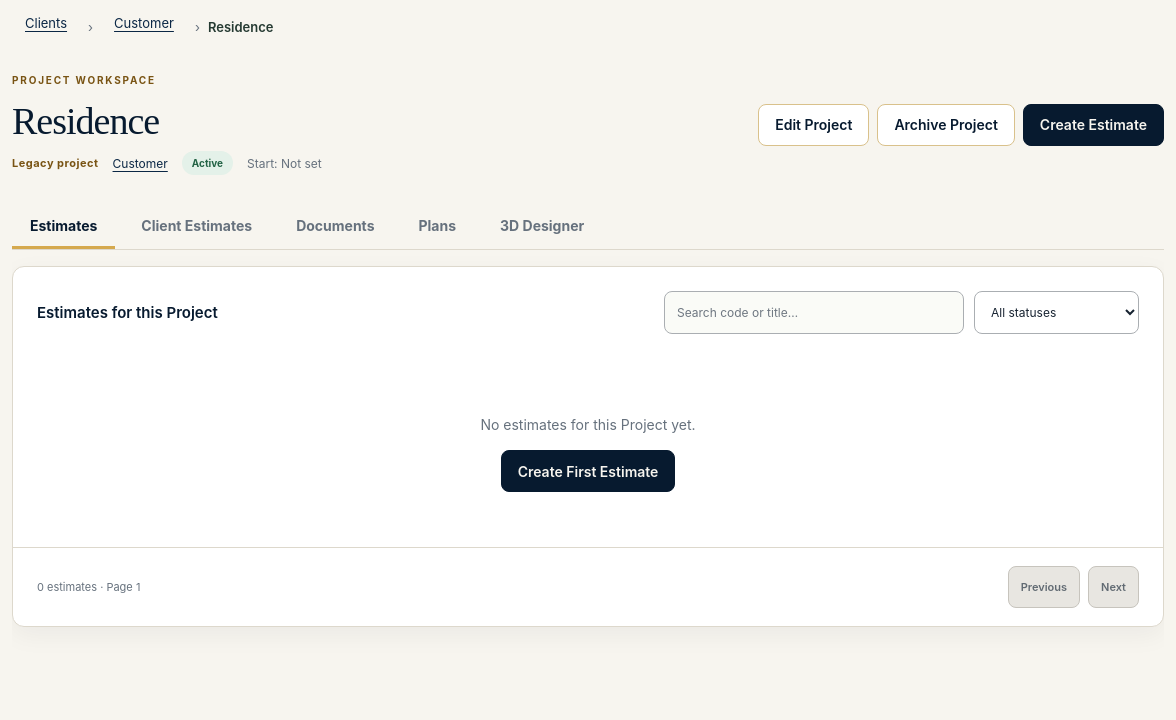
Scenario: opens the ADMIN Plans workspace from the existing Project detail
This screenshot has width=1176, height=720.
Click the tab "Plans".
click(437, 227)  # box [400, 205, 474, 249]
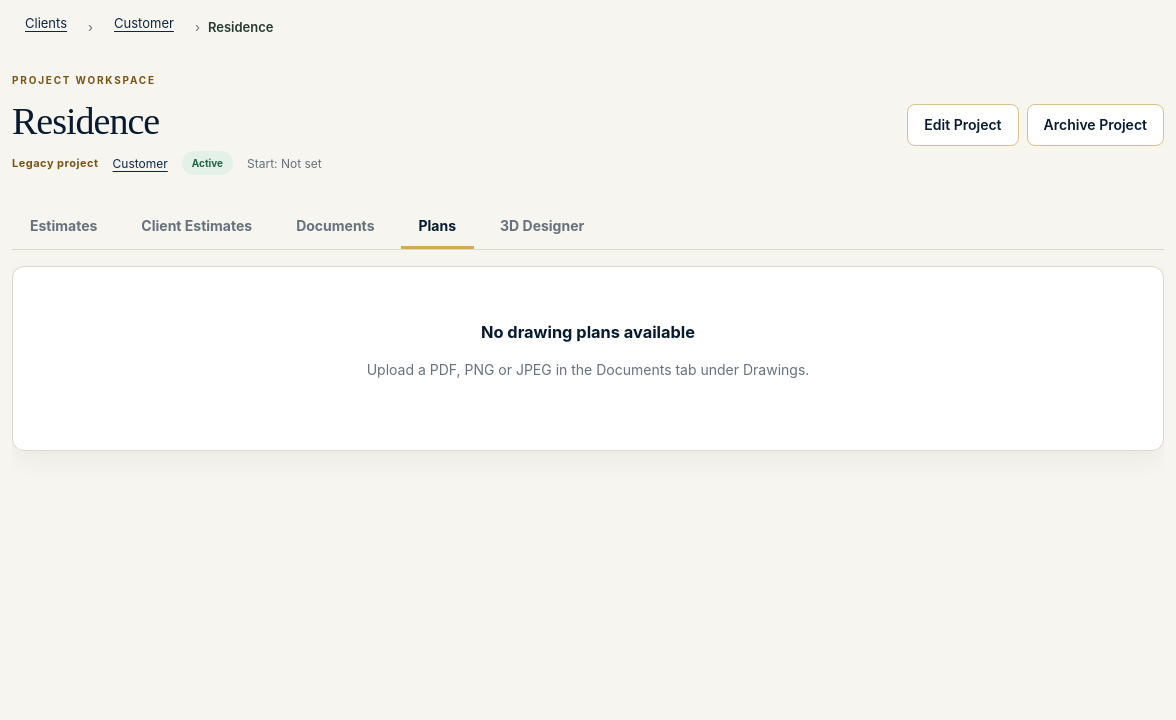
Check: the heading "No drawing plans available" is shown, box [481, 322, 695, 342]
Check: the text "Upload a PDF, PNG or JPEG" is shown, box [367, 361, 809, 378]
